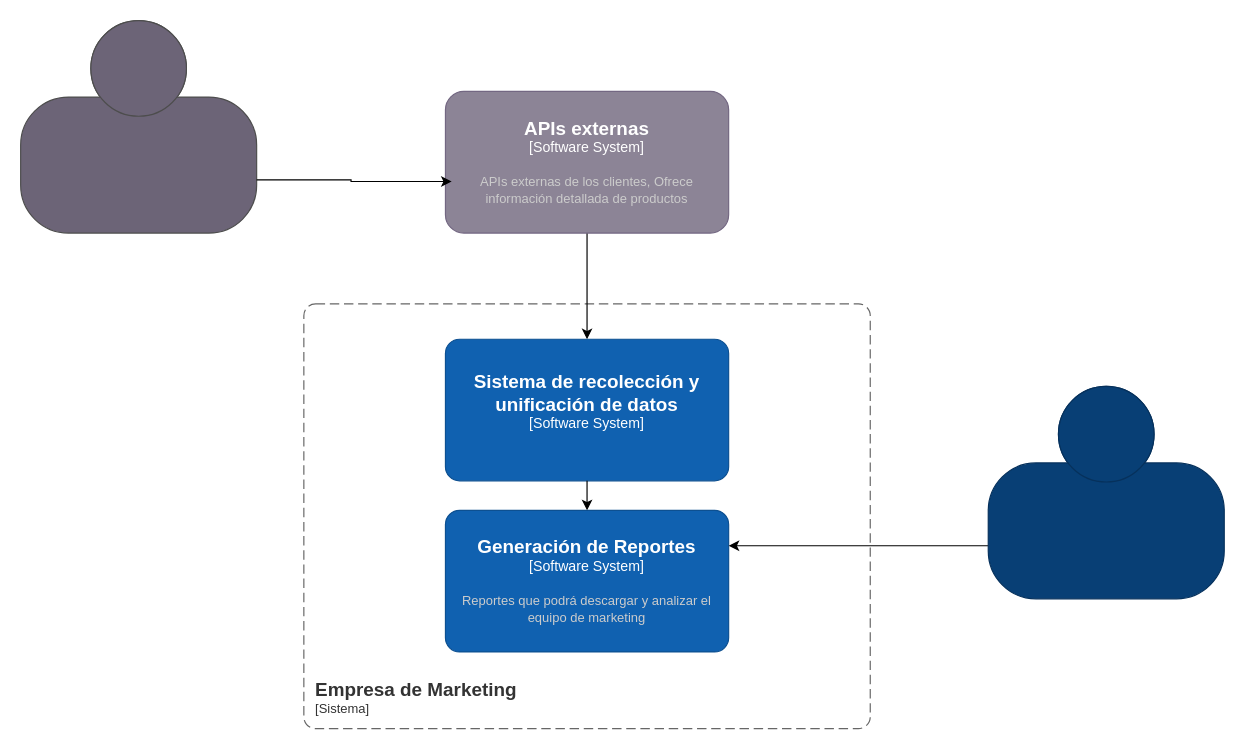
Some shapes in this 1245 by 749 pixel diagram are drawn without their labels. Here are the shapes that lost their labels. From the top down, the centre of each, then its label:
At pixel 138 126: "Sucursales [Person] Envían datos de ventas, stock, etc.".
At pixel 1105 492: "Equipo de marketing [Person] Analiza reportes para estrategias de marketing".
